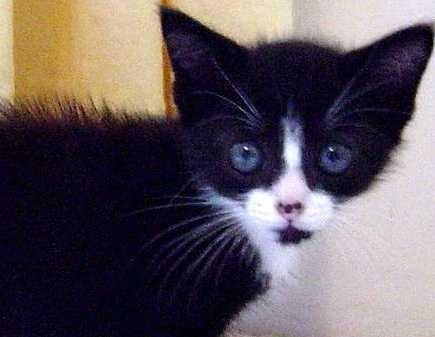Cat: (0, 7, 433, 336), (160, 7, 433, 252)
